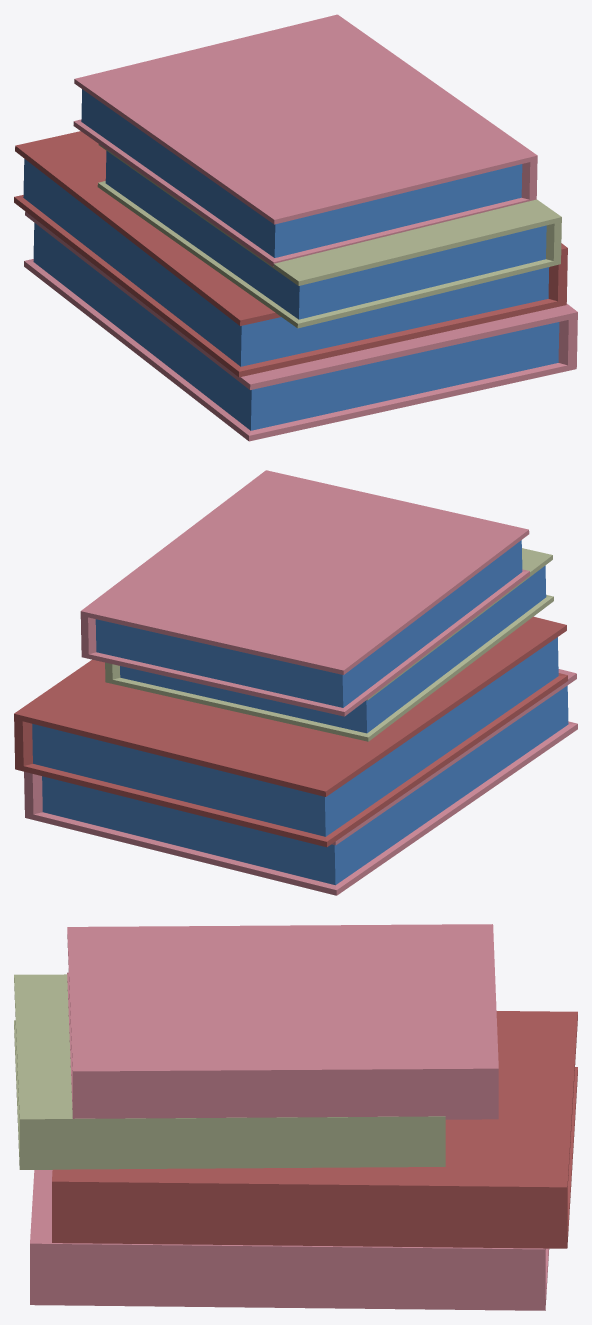
Rendered from Bedroom3_Books2.fbx.
The picture shows the model from 3 angles, top to bottom: view 1: azimuth 30°, elevation 25°; view 2: azimuth 150°, elevation 25°; view 3: azimuth 270°, elevation 25°; orthographic projection. The views are drawn at different scales.
Visible parts, largest first — view 1: Bedroom3_Books2; view 2: Bedroom3_Books2; view 3: Bedroom3_Books2.
Part boxes in pixels (<box>): Bedroom3_Books2: <box>14,14,577,441</box>; Bedroom3_Books2: <box>14,470,577,895</box>; Bedroom3_Books2: <box>14,924,577,1310</box>.
Size of the model in its own units: 33.04 by 19.47 by 44.06.
